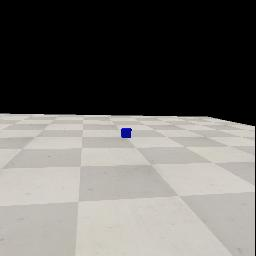box: (121, 128, 132, 138)
